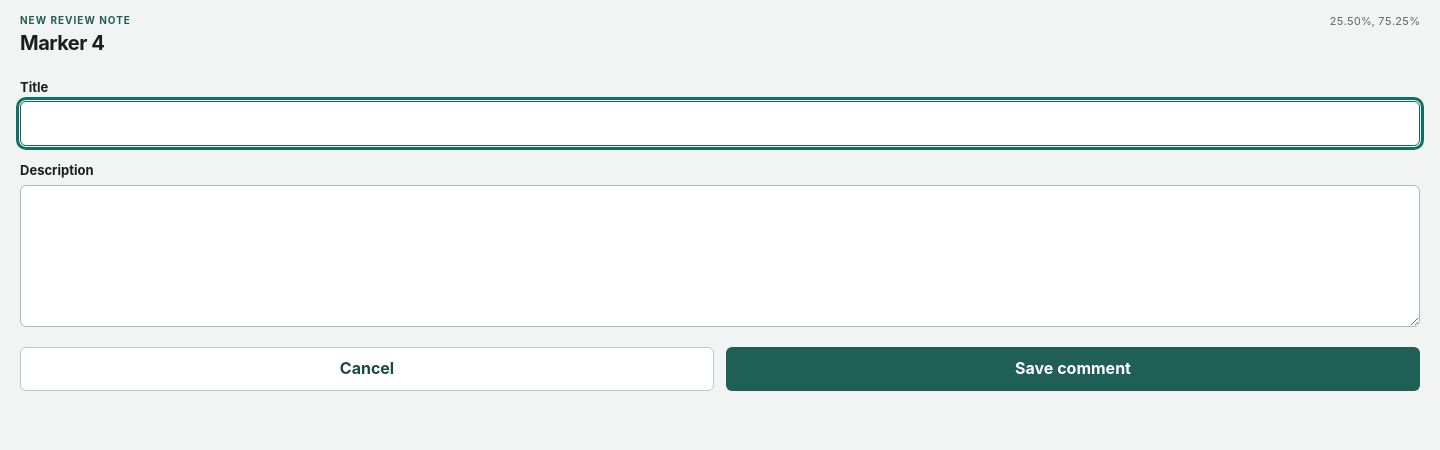
Test: CommentForm › focuses the title and reports required fields in a useful order
The width and height of the screenshot is (1440, 450).
Click the button "Save comment": [1073, 369] box [726, 347, 1420, 391]
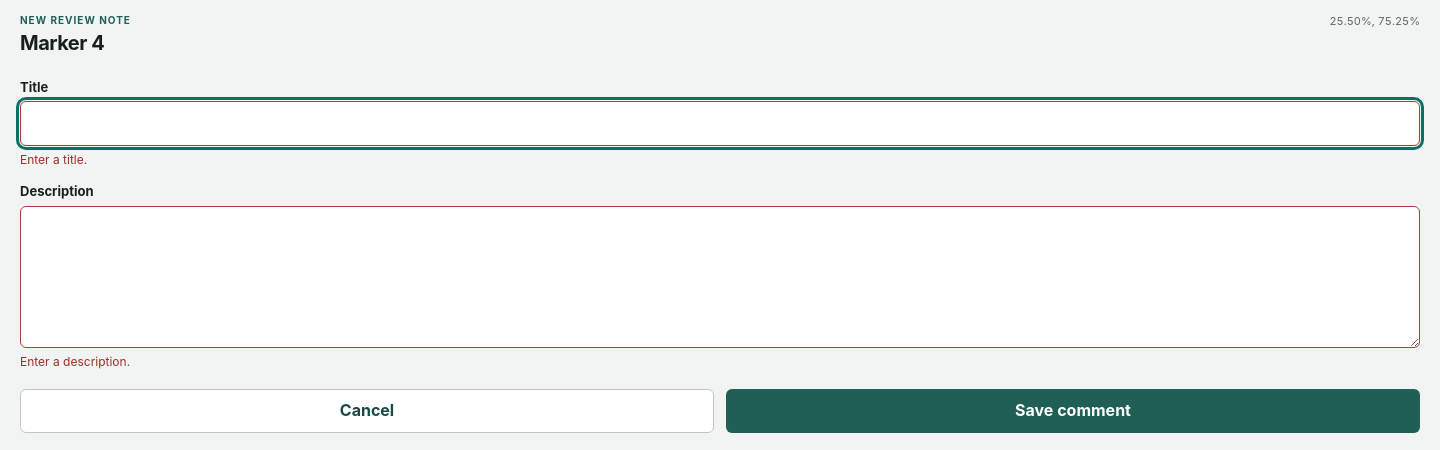
Check: the text "Enter a title." is shown, box [20, 152, 87, 167]
Check: the text "Enter a description." is shown, box [20, 354, 130, 369]
